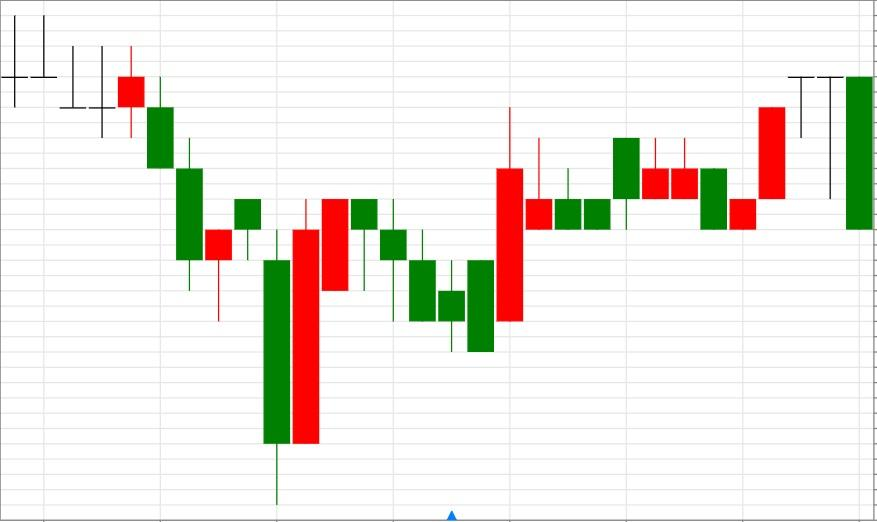hanging_man_fall: (262, 198, 378, 506)
three_black_crows_fall: (263, 199, 436, 506)
